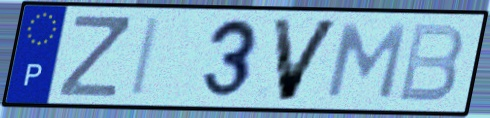3: (200, 15, 262, 103)
B: (394, 21, 467, 105)
I: (127, 15, 165, 99)
M: (322, 21, 410, 103)
V: (269, 15, 345, 104)
Z: (55, 12, 133, 99)
